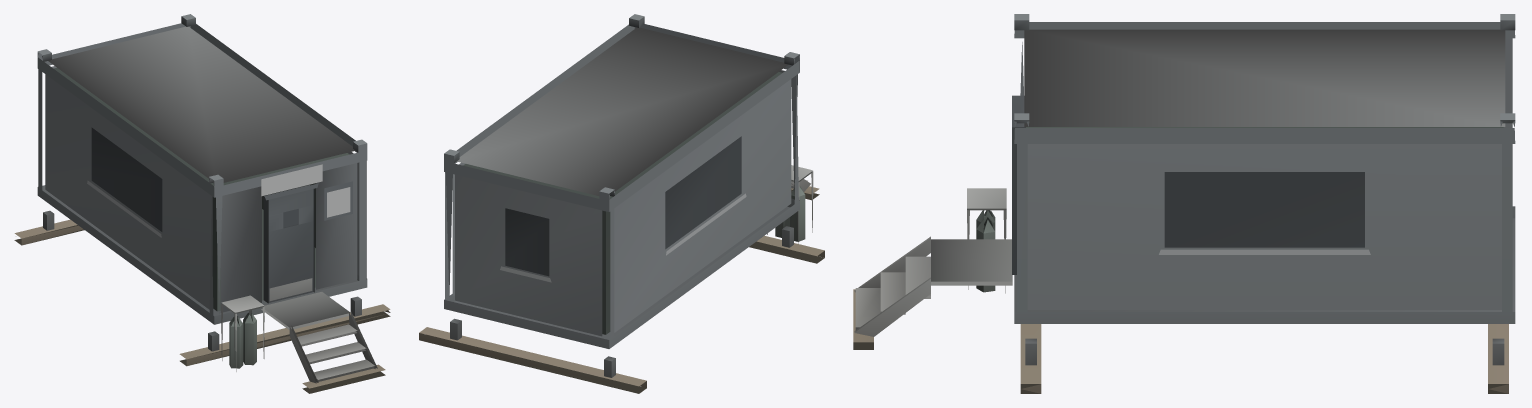
File: sitecabin.lod.glb
3 renders of one model, left to right at view 1: azimuth 30°, elevation 25°; view 2: azimuth 150°, elevation 25°; view 3: azimuth 270°, elevation 25°, orthographic. The views are drawn at different scales.
Parts seen in each view (by area): view 1: sitecabin; view 2: sitecabin; view 3: sitecabin.
Part boxes in pixels (x1,y1,x2,y2): sitecabin: (14,14,390,393); sitecabin: (419,14,824,393); sitecabin: (853,14,1515,393).
Size of the model in its own units: 4 by 3.39 by 7.96.
